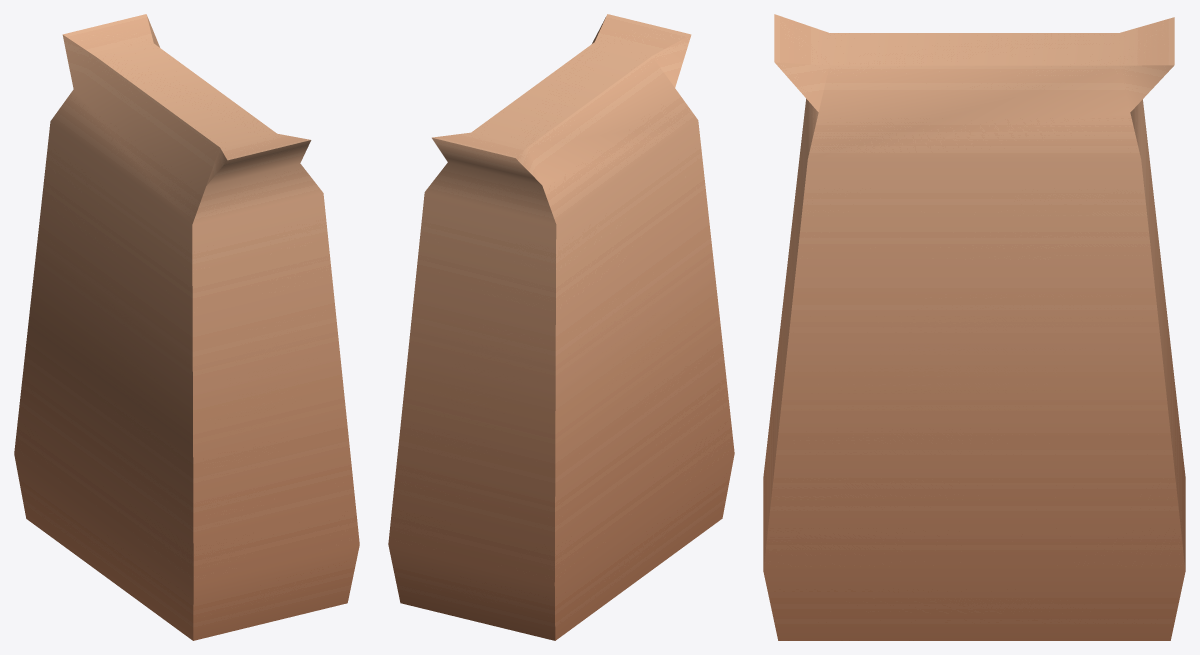
Rendered from bag.glb.
The picture shows the model from 3 angles, left to right: view 1: azimuth 30°, elevation 25°; view 2: azimuth 150°, elevation 25°; view 3: azimuth 270°, elevation 25°; orthographic projection. The views are drawn at different scales.
Visible parts, largest first — view 1: bag; view 2: bag; view 3: bag.
Part boxes in pixels (box(x1,y1,x2,y2)): bag: box(14, 14, 359, 640); bag: box(388, 14, 734, 640); bag: box(763, 14, 1185, 640).
Size of the model in its own units: 0.2201 by 0.5998 by 0.4118.
1 material, 1 textured.
